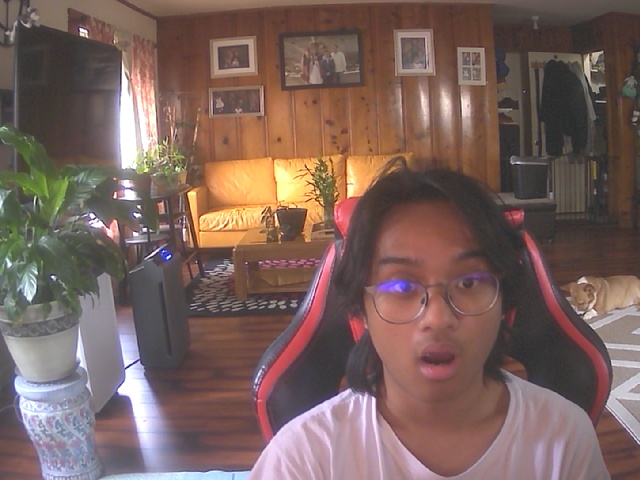fear: (356, 171, 516, 407)
